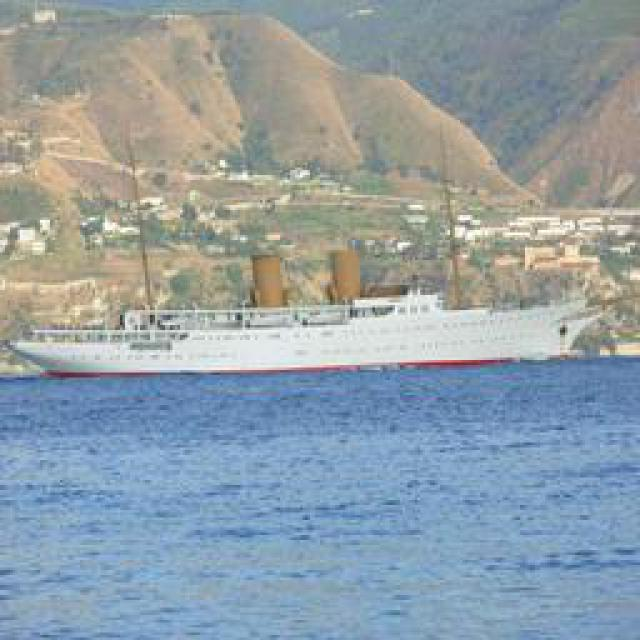Ship: (20, 296, 585, 381)
